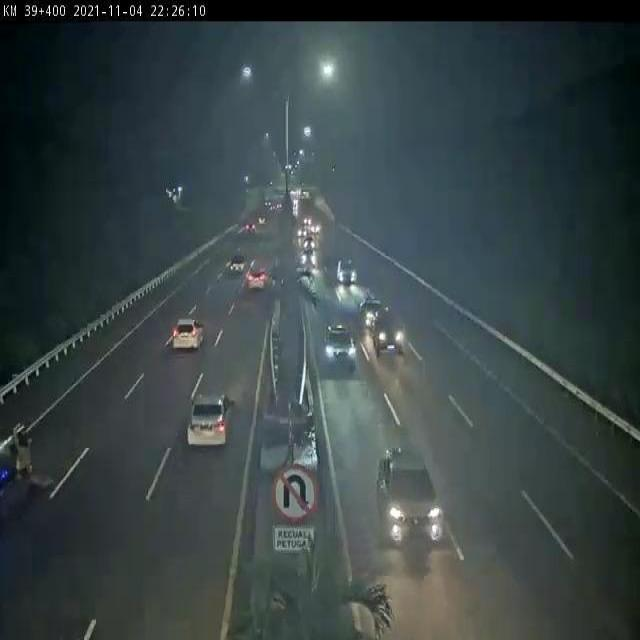car: (377, 442, 447, 554), (165, 380, 242, 480), (158, 308, 210, 367), (317, 317, 358, 372), (371, 316, 407, 353), (336, 253, 363, 288), (358, 295, 389, 325), (239, 260, 267, 293)
small truck: (2, 413, 55, 520), (401, 459, 405, 464)
